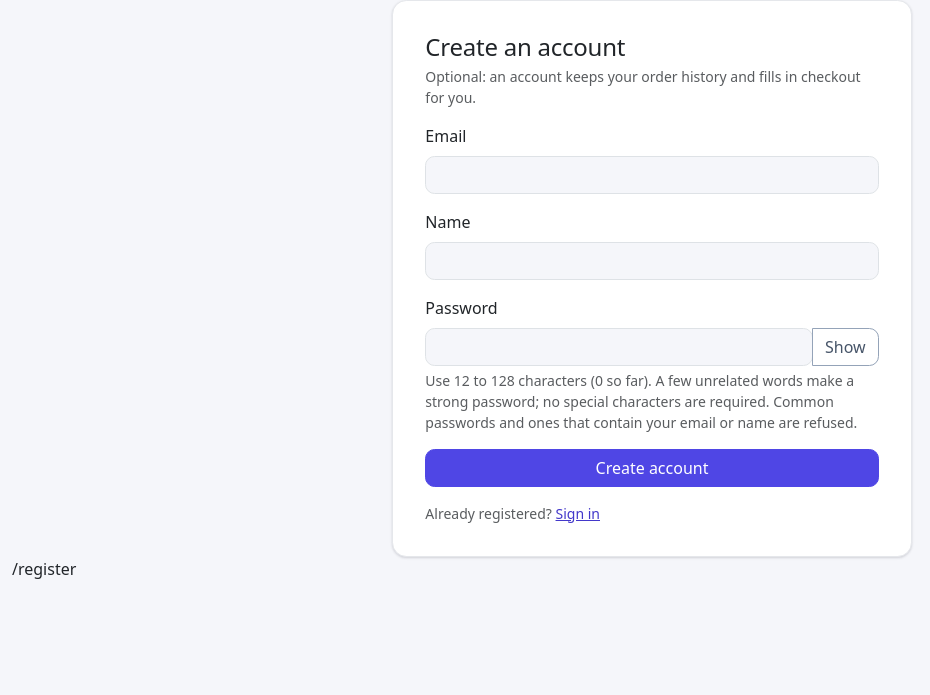
Test case: RegisterPage › explains a taken email once, next to the field
The width and height of the screenshot is (930, 695).
Type "ada@example.com" into the field labelled "Email" at {"x": 652, "y": 175}, box [425, 156, 879, 194]
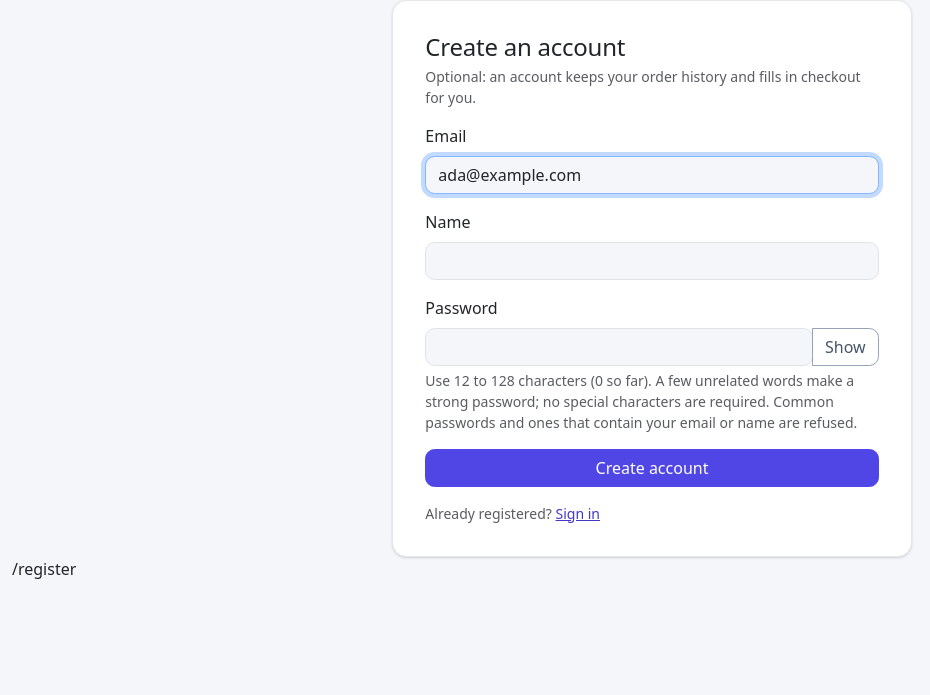
Click the button "Create account" at {"x": 652, "y": 468}, box [425, 449, 879, 487]
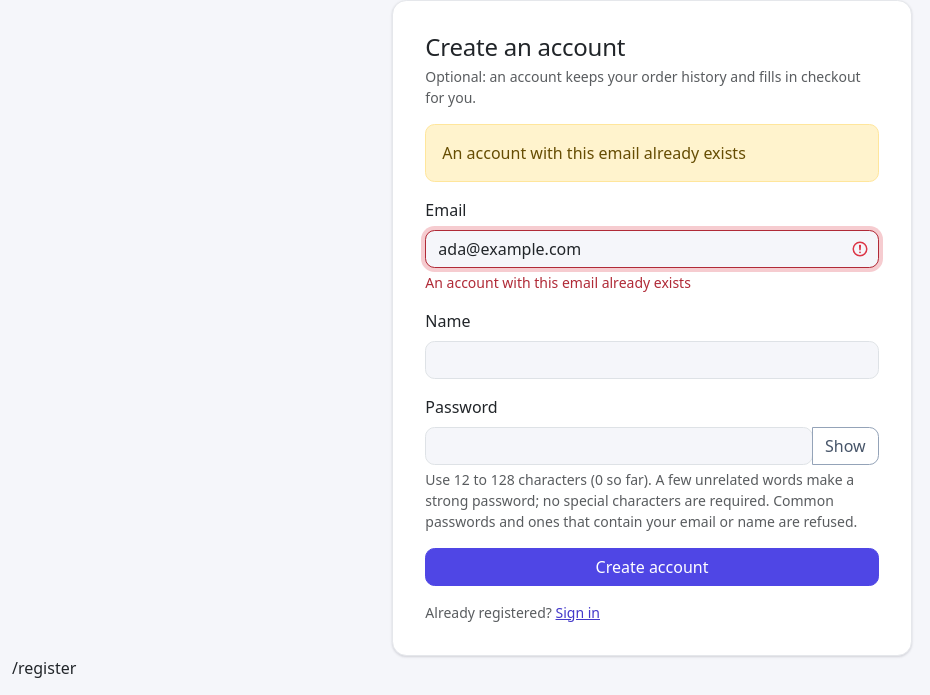
Check: the message reads "An account with this email already exists", box [442, 142, 746, 164]
